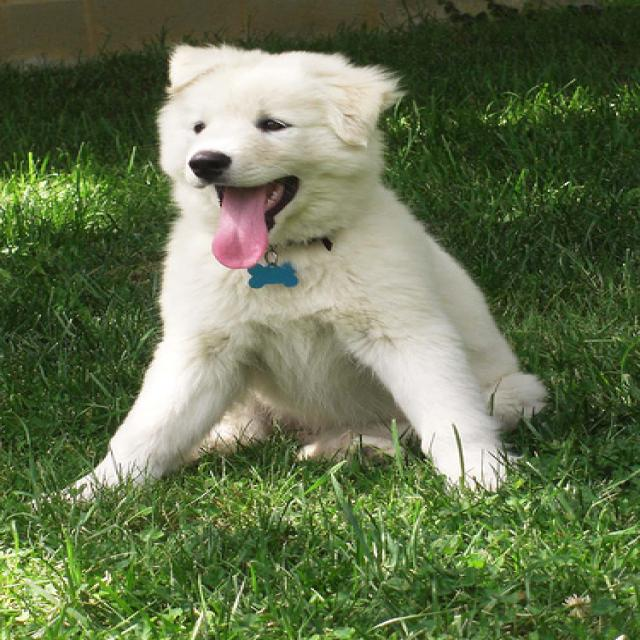dog: (157, 44, 393, 268)
